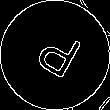P_SW: (26, 24, 84, 86)
